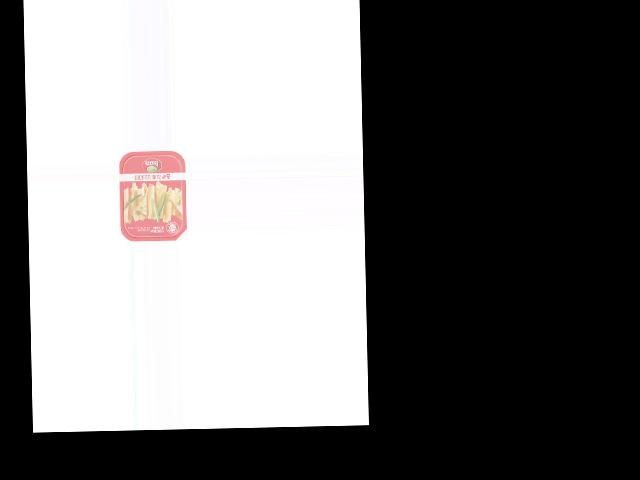cheese: (117, 150, 186, 242)
